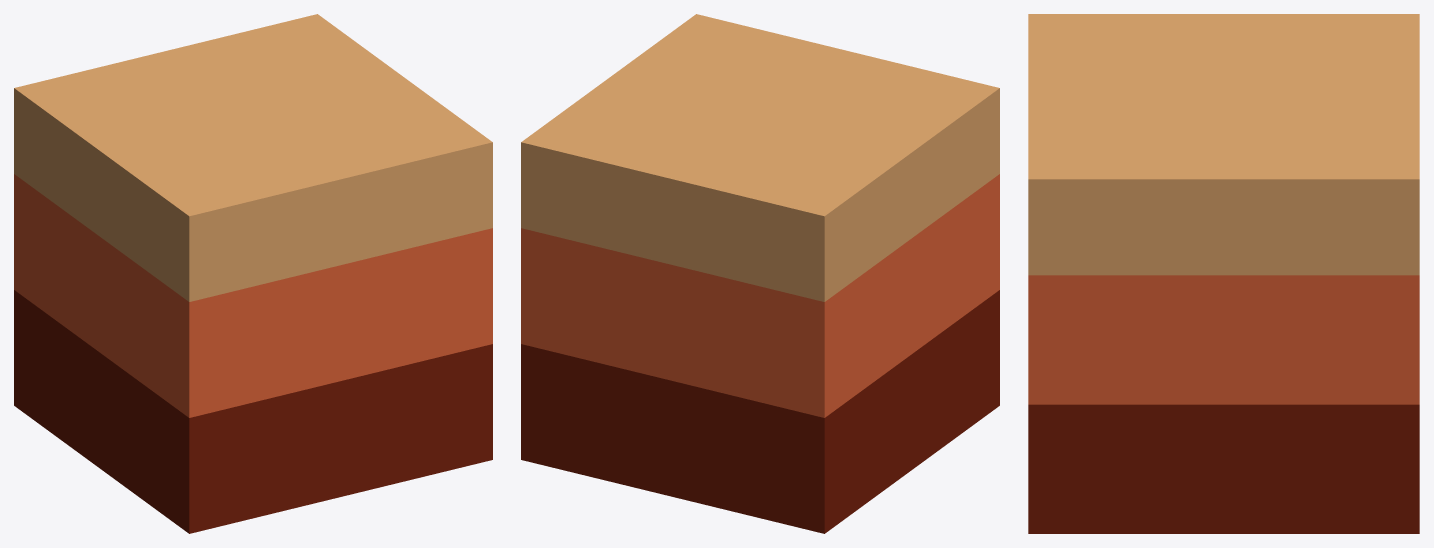
The model's file is stone_cube.glb.
3 views of the same model, side by side, from view 1: azimuth 30°, elevation 25°; view 2: azimuth 150°, elevation 25°; view 3: azimuth 270°, elevation 25° (orthographic). The views are drawn at different scales.
Visible parts, largest first — view 1: Stone_Cube; view 2: Stone_Cube; view 3: Stone_Cube.
Part boxes in pixels (<box>): Stone_Cube: <box>14,14,492,533</box>; Stone_Cube: <box>521,14,999,533</box>; Stone_Cube: <box>1028,14,1419,533</box>.
Size of the model in its own units: 2 by 2 by 2.
